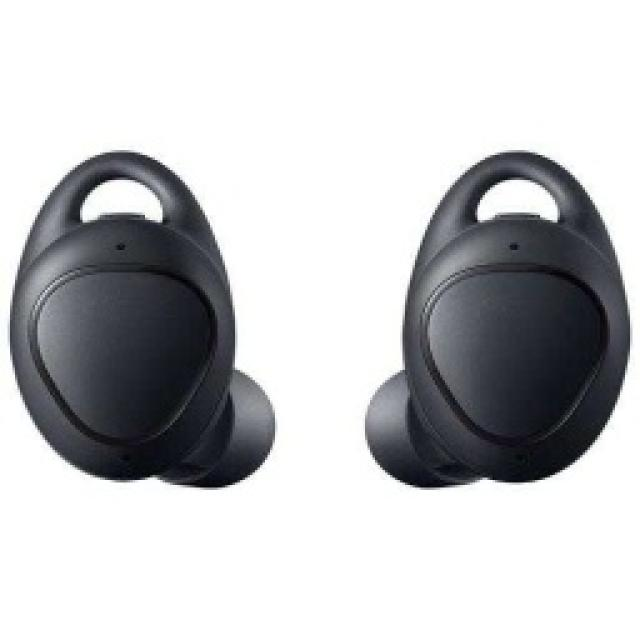headphones: (7, 148, 275, 488), (362, 148, 630, 488)
